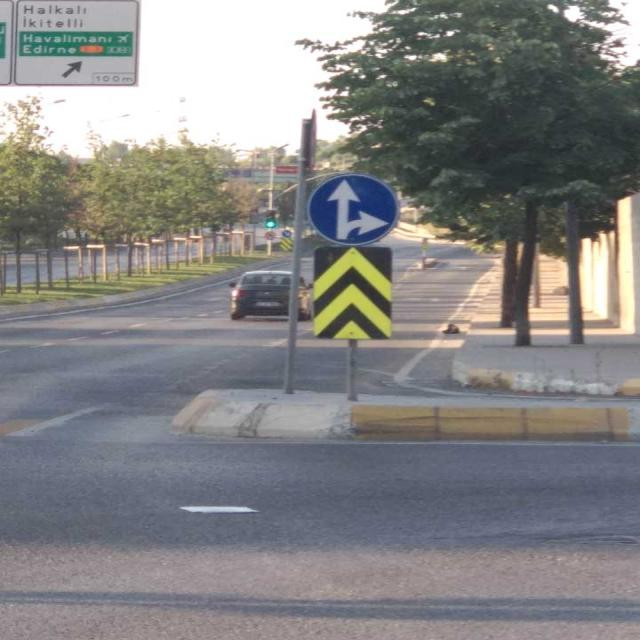ilerisag: (307, 175, 401, 245)
yesil: (265, 209, 275, 229)
